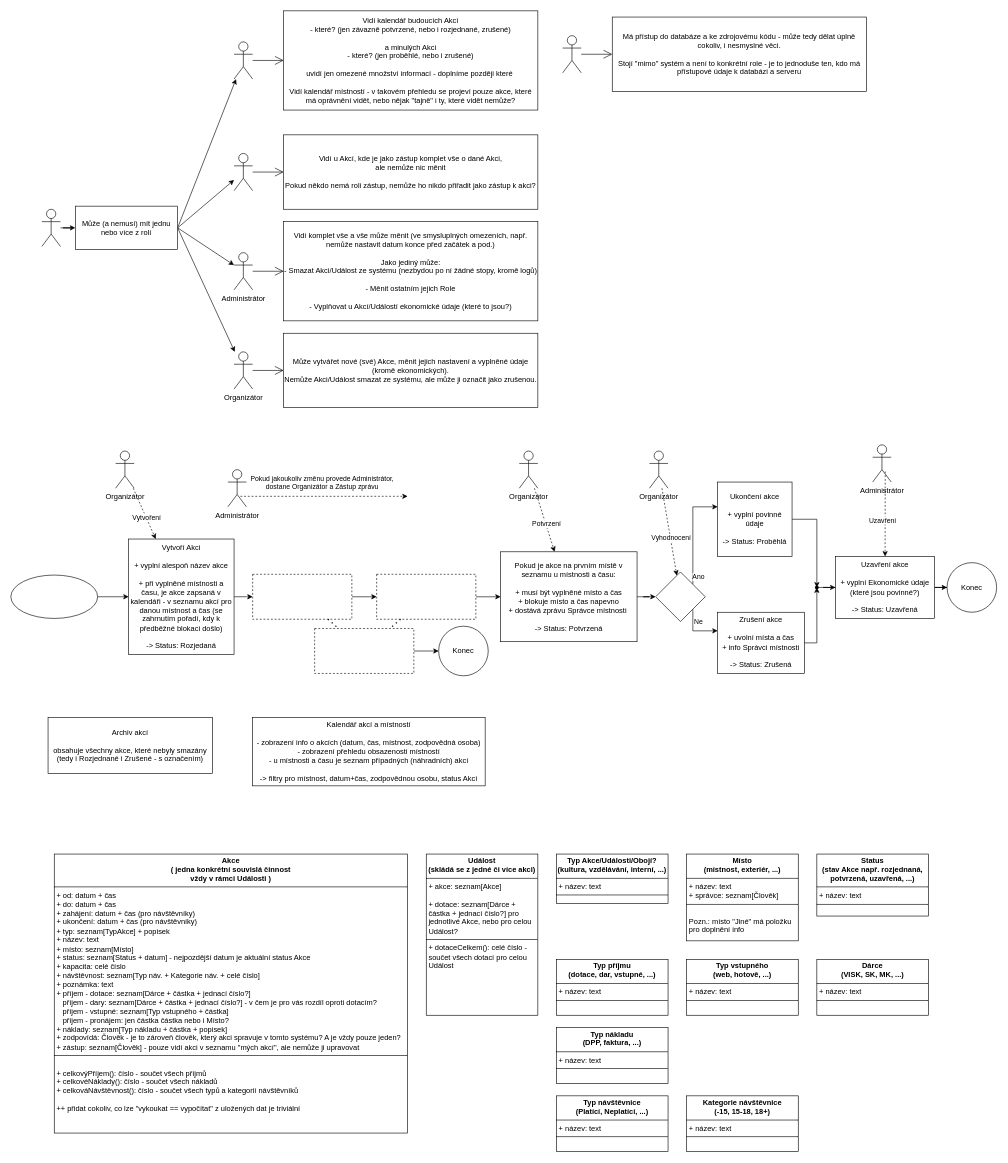
This 1008x1163 diagram has some shape labels left out. The centre of each missing label's shape, as x and y in pixels:
"Život" akce: (54,596)
Divák: (243,60)
Pokud dojde ke zrušení ve stavu Rozjednaná -> Status: Nedojednaná: (364,650)
Pokud není do X dnů potvrzená, dostává zprávu Organizátor: (302,596)
Pokud není do Y dnů potvrzená, dostává zprávu Organizátor a Administrátor: (426,596)
Proběhla?: (680,596)
SuperUser: (571,54)
Uživatel: (50,227)
Zástup: (243,172)
